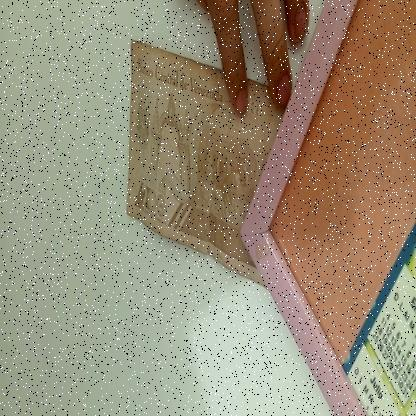five-back-vef: (126, 39, 286, 290)
